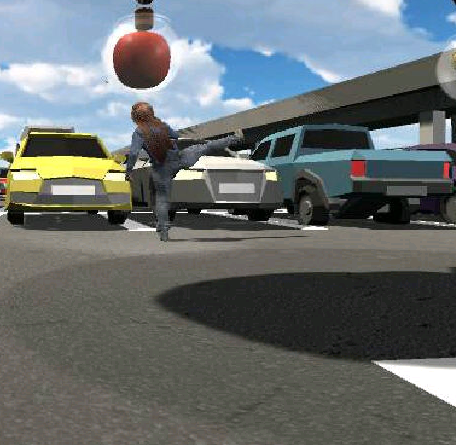turn_right: (122, 102, 254, 240)
